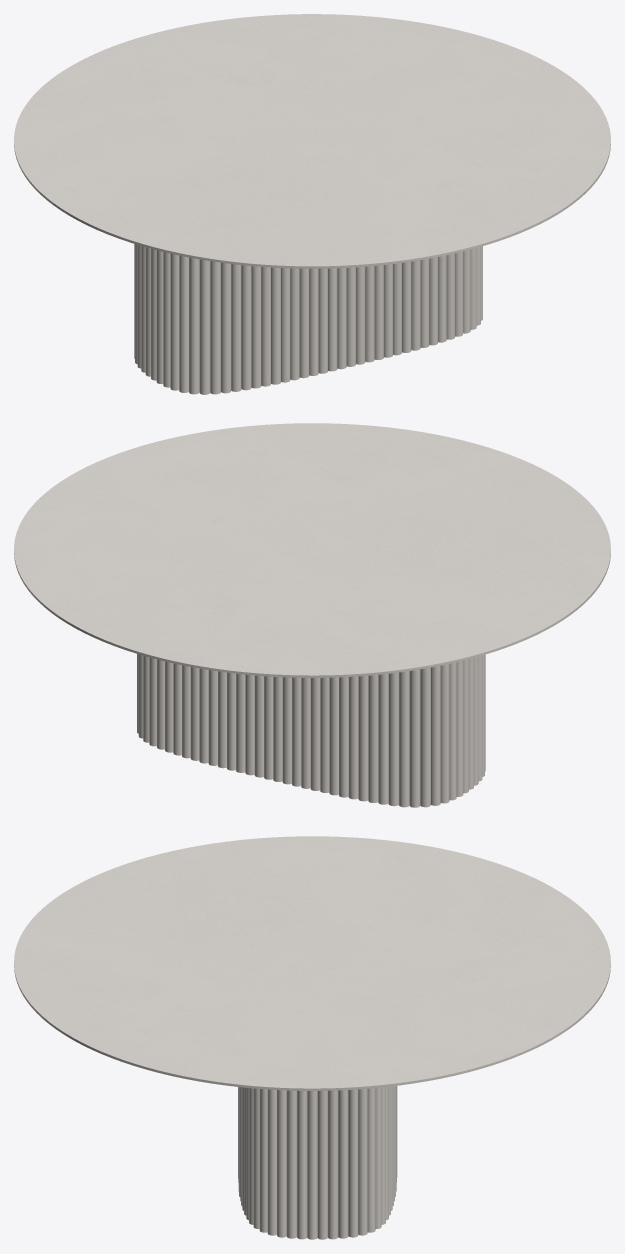
Rendered from pearlwhite_round_facet_newtable.glb.
The picture shows the model from 3 angles, top to bottom: view 1: azimuth 30°, elevation 25°; view 2: azimuth 150°, elevation 25°; view 3: azimuth 270°, elevation 25°; orthographic projection.
Parts seen in each view (by area): view 1: facet_round, newtable; view 2: facet_round, newtable; view 3: facet_round, newtable.
Boxes of the visible parts, x1=… form: facet_round: x1=14, y1=14, x2=610, y2=268; newtable: x1=134, y1=244, x2=482, y2=394; facet_round: x1=14, y1=423, x2=610, y2=677; newtable: x1=137, y1=654, x2=485, y2=807; facet_round: x1=14, y1=836, x2=610, y2=1090; newtable: x1=238, y1=1086, x2=397, y2=1239.
Size of the model in its own units: 6.75 by 2.49 by 6.75.
Materials: 2 (2 with a texture image).
